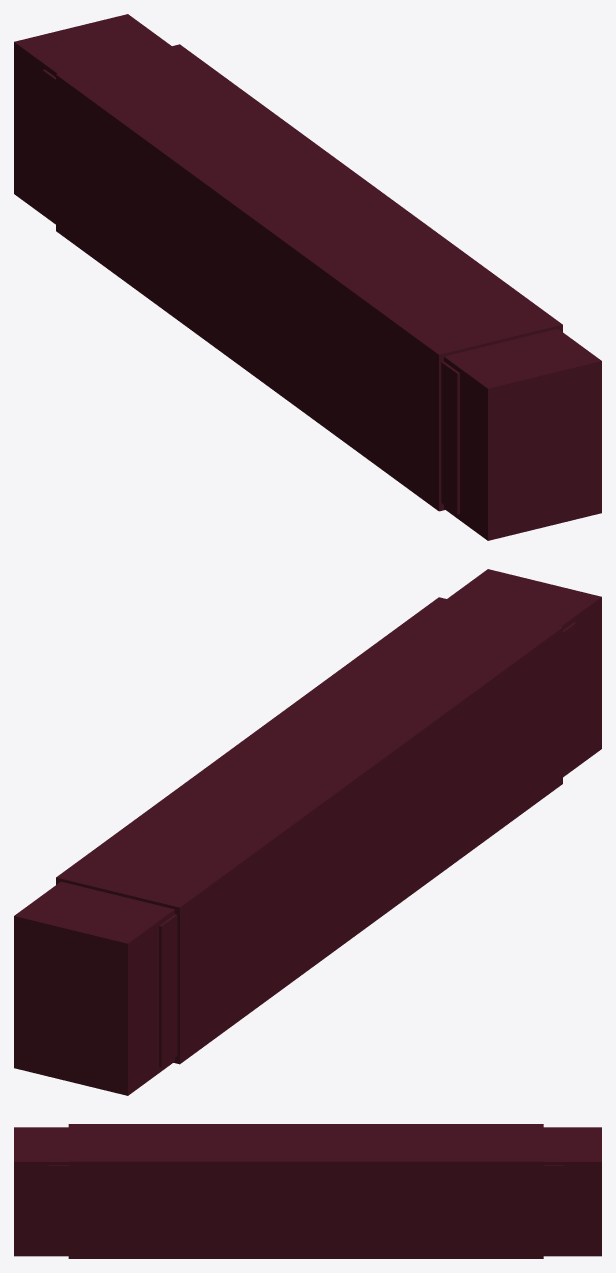
The model's file is H8200_COL_1.glb.
The picture shows the model from 3 angles, top to bottom: view 1: azimuth 30°, elevation 25°; view 2: azimuth 150°, elevation 25°; view 3: azimuth 270°, elevation 25°; orthographic projection. The views are drawn at different scales.
Parts seen in each view (by area): view 1: obj12, obj19, obj13, obj11, obj17, obj18, obj16, obj10, COL; view 2: obj12, obj19, obj11, obj13, obj17, obj16, obj18, COL, obj10; view 3: obj17, obj16, obj18, obj19, obj12, obj11, obj13, COL, obj10.
Part boxes in pixels (box(x1,y1,x2,y2)): obj12: box(161, 136, 395, 434); obj19: box(14, 14, 601, 540); obj13: box(334, 263, 500, 511); obj11: box(56, 59, 222, 307); obj17: box(223, 121, 457, 262); obj18: box(396, 247, 562, 342); obj16: box(118, 44, 284, 136); obj10: box(441, 361, 459, 514); COL: box(42, 69, 55, 220); obj12: box(223, 689, 457, 986); obj19: box(14, 569, 601, 1095); obj11: box(118, 816, 284, 1064); obj13: box(396, 612, 562, 860); obj17: box(161, 674, 395, 815); obj16: box(56, 800, 222, 895); obj18: box(334, 597, 500, 688); COL: box(159, 914, 177, 1067); obj10: box(563, 622, 576, 773); obj17: box(199, 1143, 413, 1258); obj16: box(413, 1143, 543, 1258); obj18: box(68, 1143, 198, 1258); obj19: box(14, 1127, 601, 1256); obj12: box(199, 1124, 413, 1142); obj11: box(413, 1124, 543, 1142); obj13: box(68, 1124, 198, 1142); COL: box(543, 1165, 563, 1253); obj10: box(49, 1165, 68, 1253).
Bounding box in the file's own units: 6.62 × 8 × 43.87.
9 materials, 9 textured.
